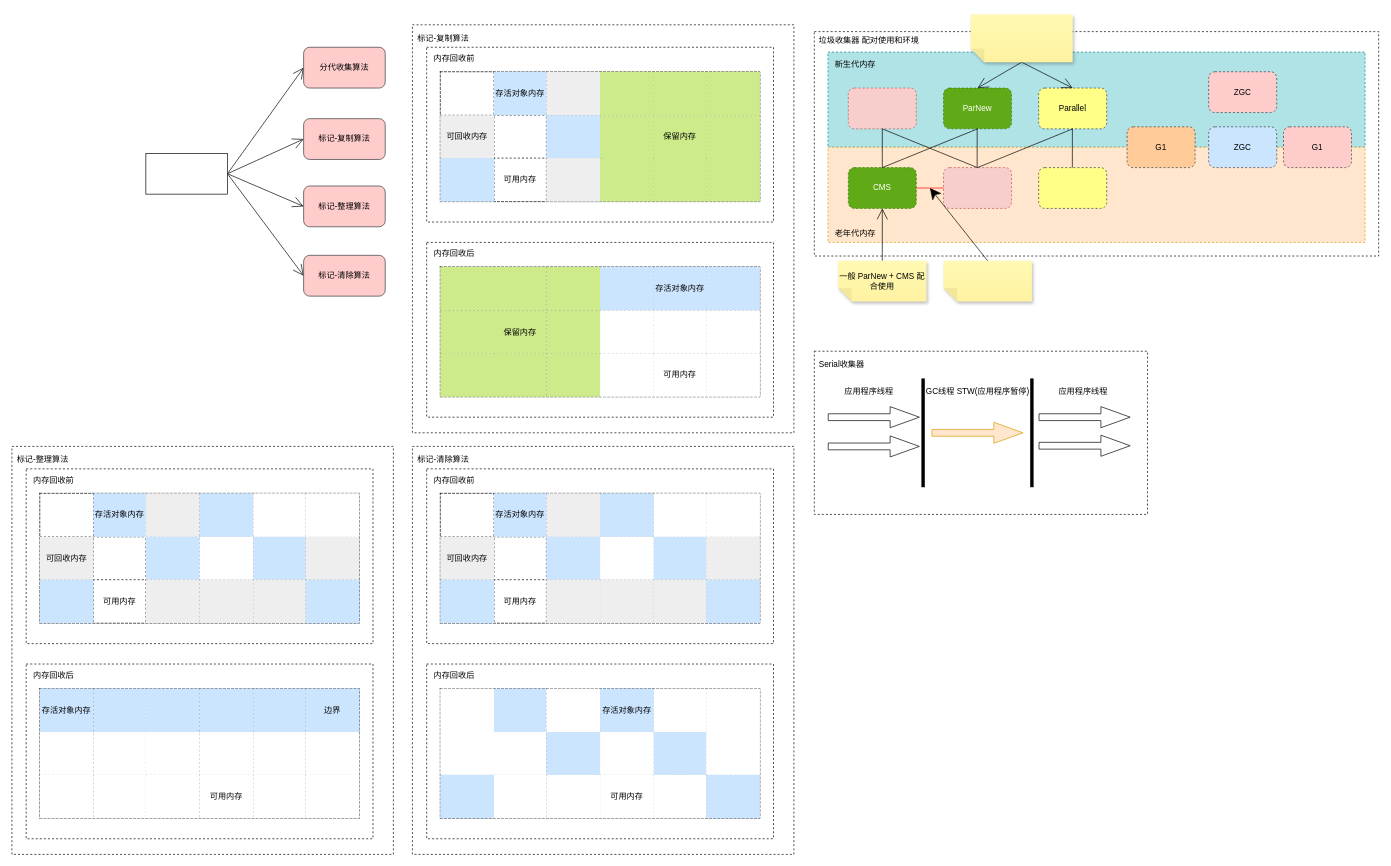
Image size: 1391x866. Some labels were removed from this diagram. Here are the shapes that lost their labels. From the top down, the centre of each, then its label:
At point (1022, 39): "多线程收集器".
At point (882, 108): "Serial".
At point (186, 173): "垃圾收集算法".
At point (977, 187): "Serial Old".
At point (1072, 187): "Parallel Old".
At point (988, 282): "CMF 后采用 Serial".
